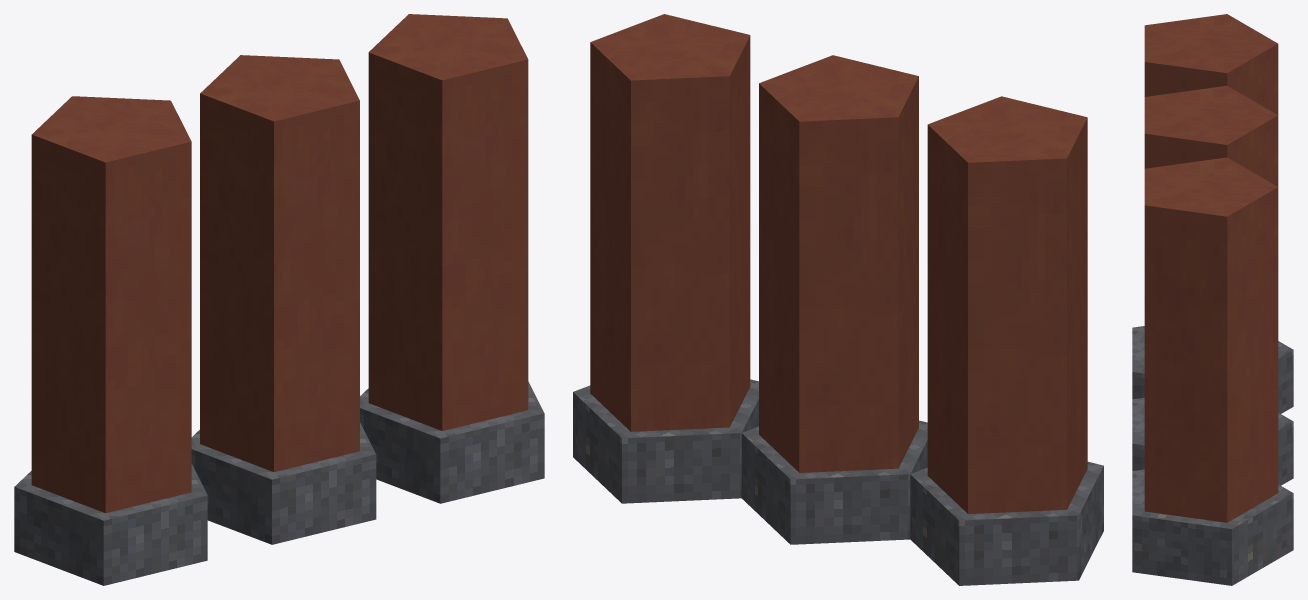
Rendered from shotgunammo.glb.
The picture shows the model from 3 angles, left to right: view 1: azimuth 30°, elevation 25°; view 2: azimuth 150°, elevation 25°; view 3: azimuth 270°, elevation 25°; orthographic projection. The views are drawn at different scales.
Parts seen in each view (by area): view 1: ShotgunAmmo; view 2: ShotgunAmmo; view 3: ShotgunAmmo.
Boxes of the visible parts, <box> form: ShotgunAmmo: <box>14,14,544,585</box>; ShotgunAmmo: <box>573,14,1103,585</box>; ShotgunAmmo: <box>1132,14,1293,585</box>.
Bounding box in the file's own units: 0.2486 × 0.1956 × 0.0788.
Materials: 2 (2 with a texture image).
